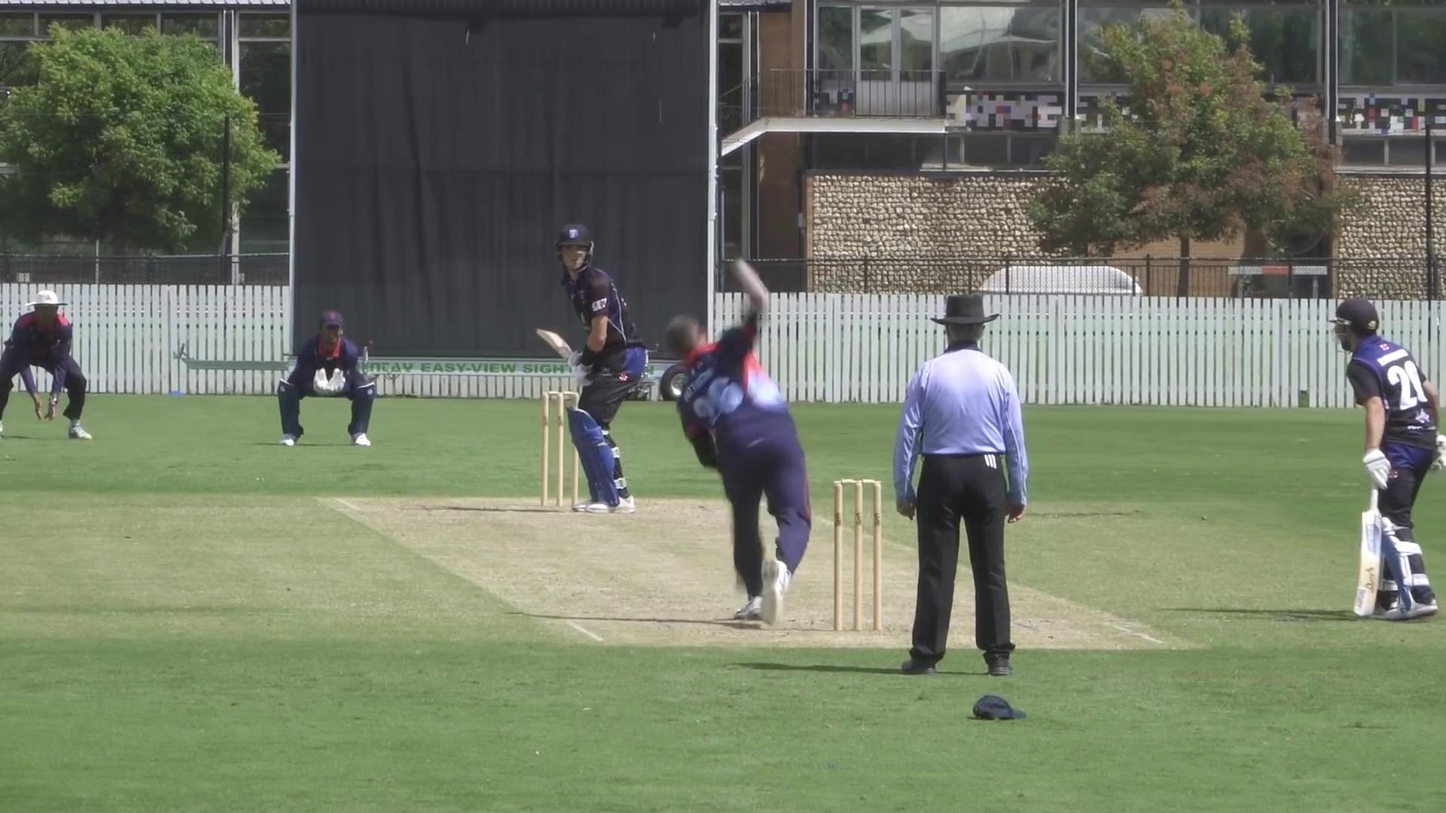ball: (727, 256, 765, 290)
